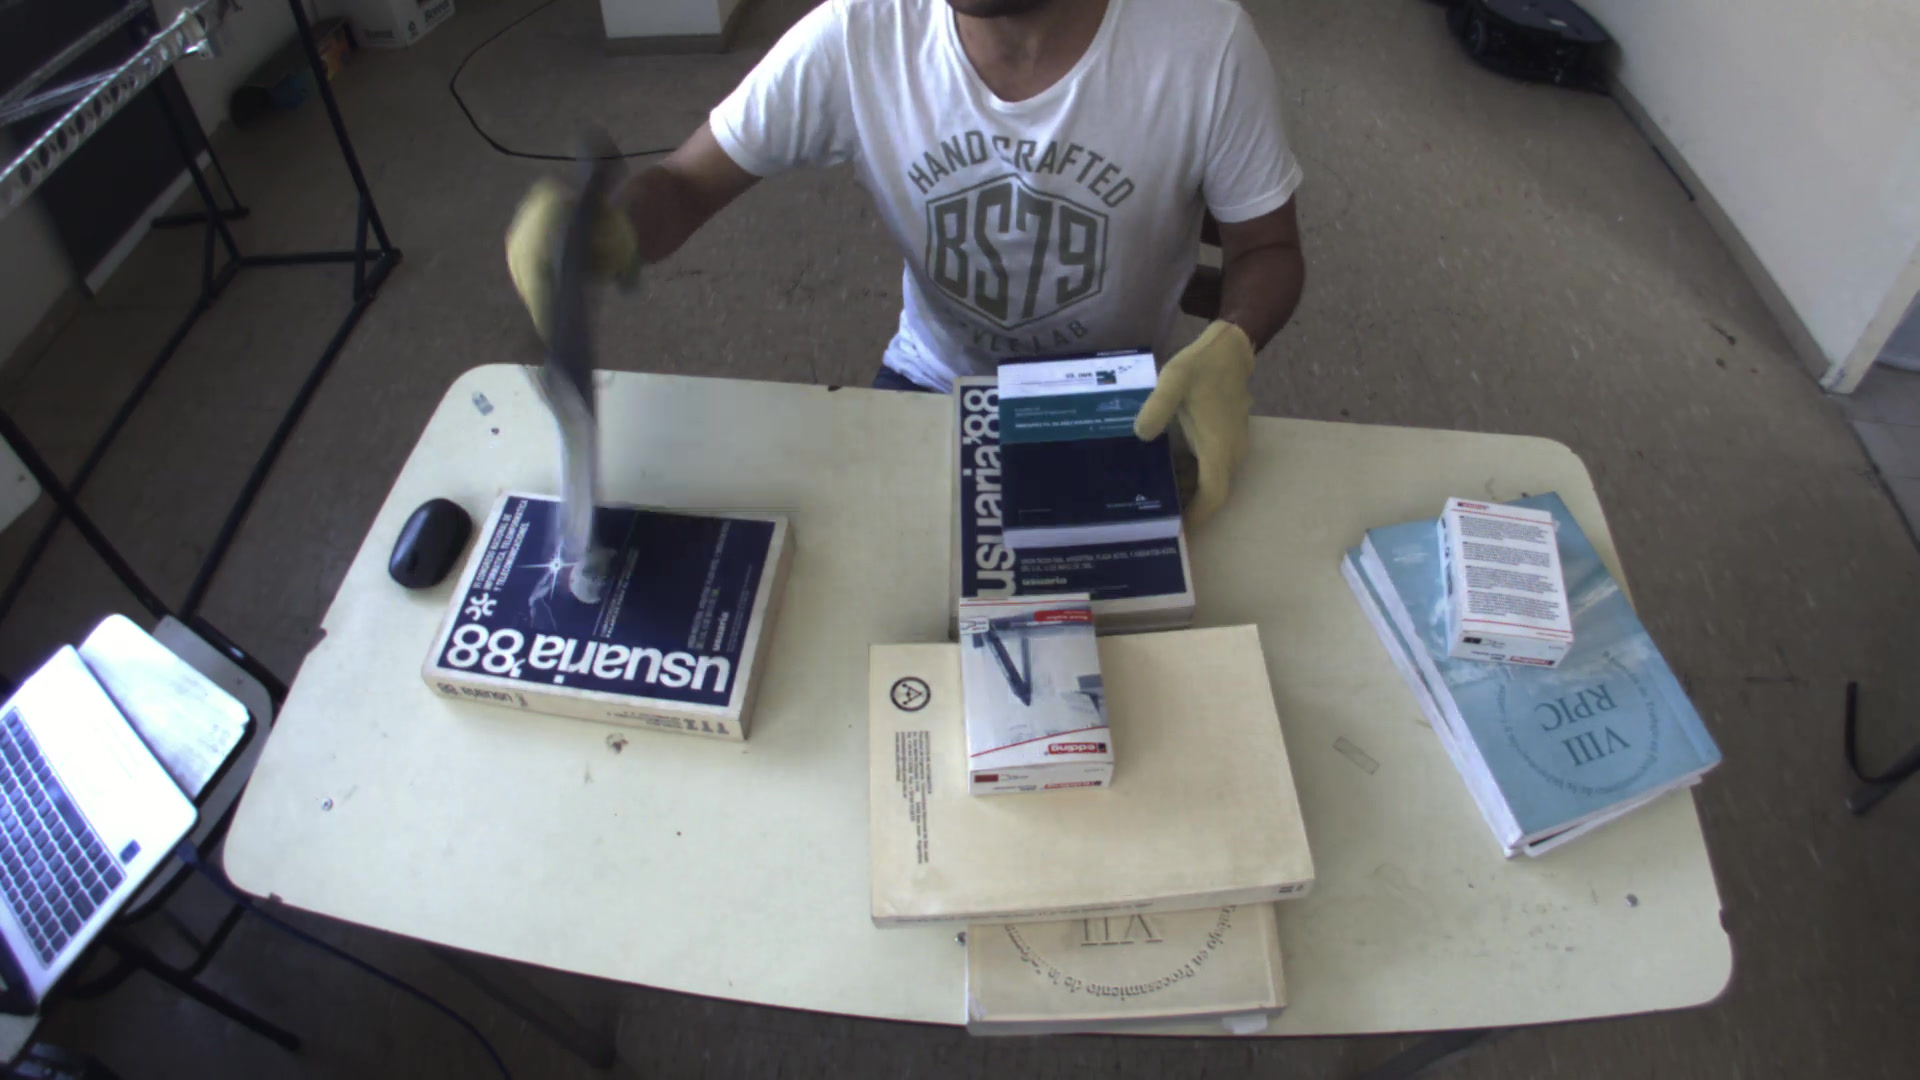hand: (1130, 309, 1269, 520)
